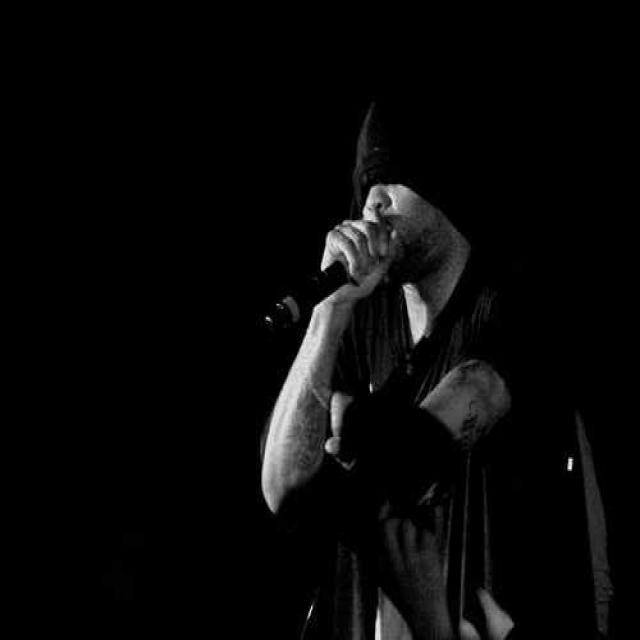microphone: (266, 227, 384, 328)
